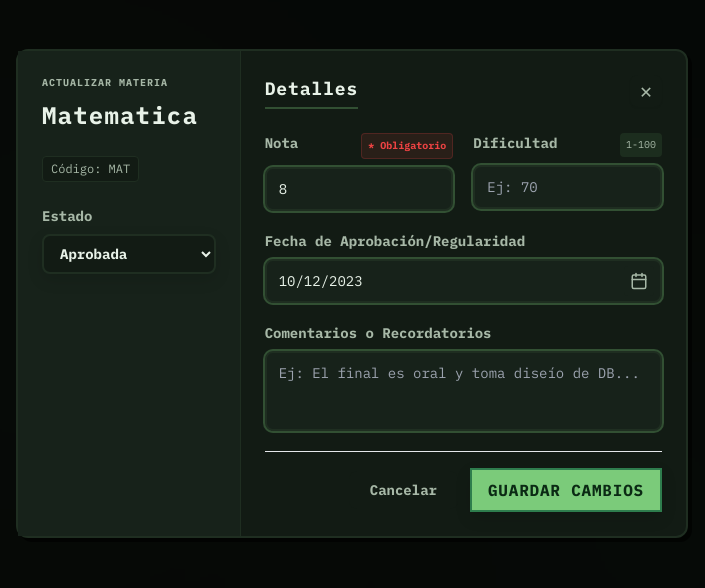
Scenario: SubjectUpdatePanel › debería arrojar error si la nota ingresada no es un número válido
# Change grade to invalid value via textbox
Replace the text in the field labelled "Nota * Obligatorio" with "15": (359, 188) [265, 166, 453, 210]
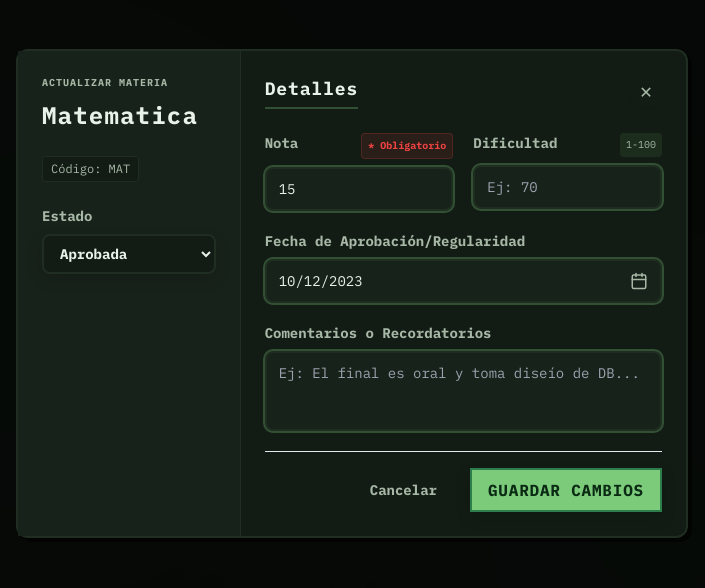
Click the button "Guardar Cambios": (566, 490) [470, 468, 662, 512]
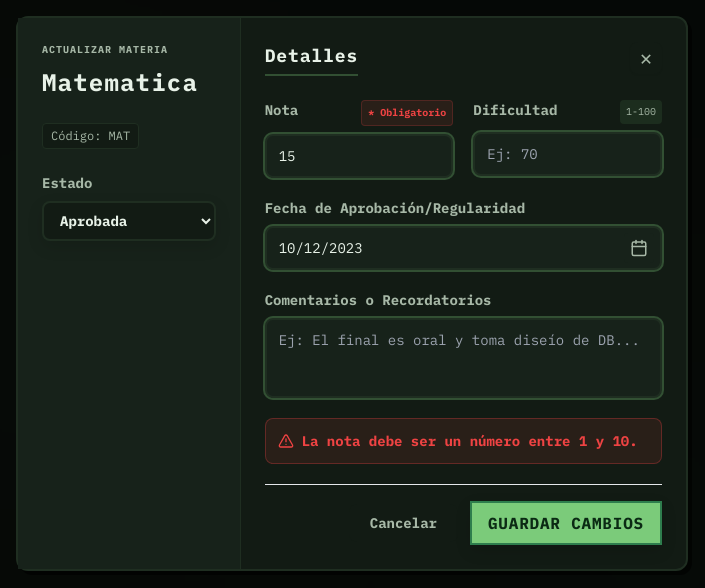
Expected: the text "La nota debe ser un número entre 1 y 10." is shown, [278, 430, 649, 450]
